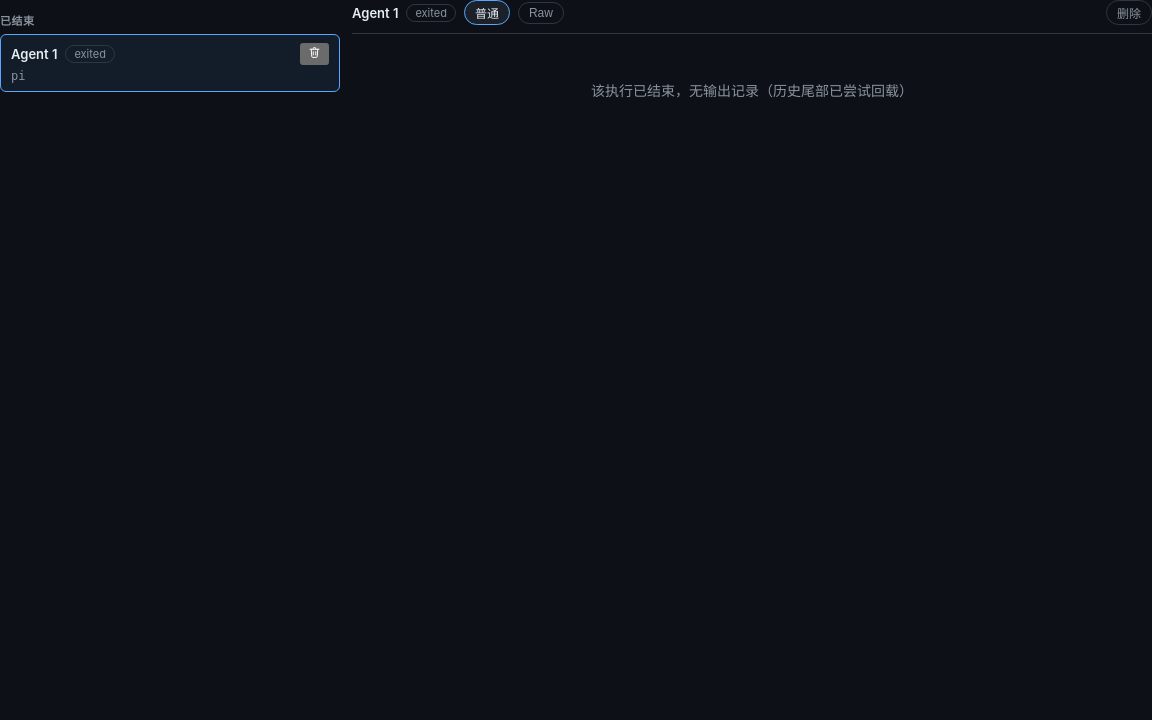
Test case: exec plane delete lease guard (F-EXEC-14(4)) › 非租约拒绝 → 原错误就地呈现，无放弃租约入口
Step 1. Click the button named "删除 Agent 1" → (314, 54), box x1=300 y1=43 x2=329 y2=65
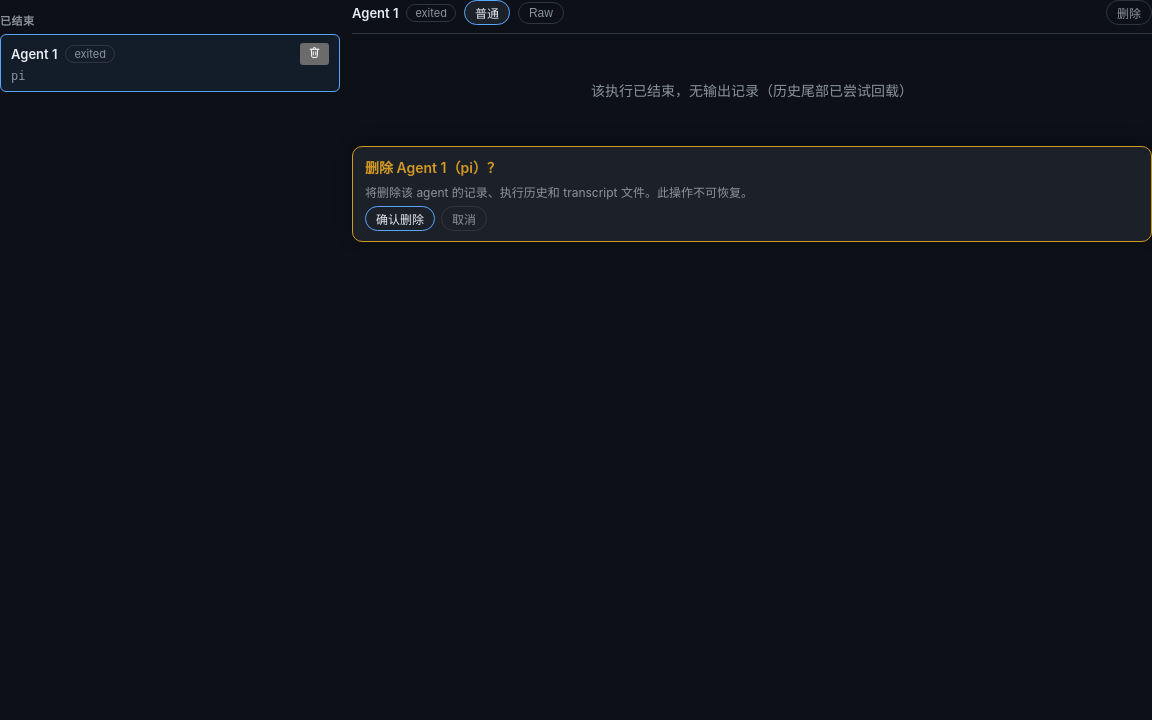
Step 2. Click the button "确认删除" → (400, 218), box x1=365 y1=206 x2=435 y2=231
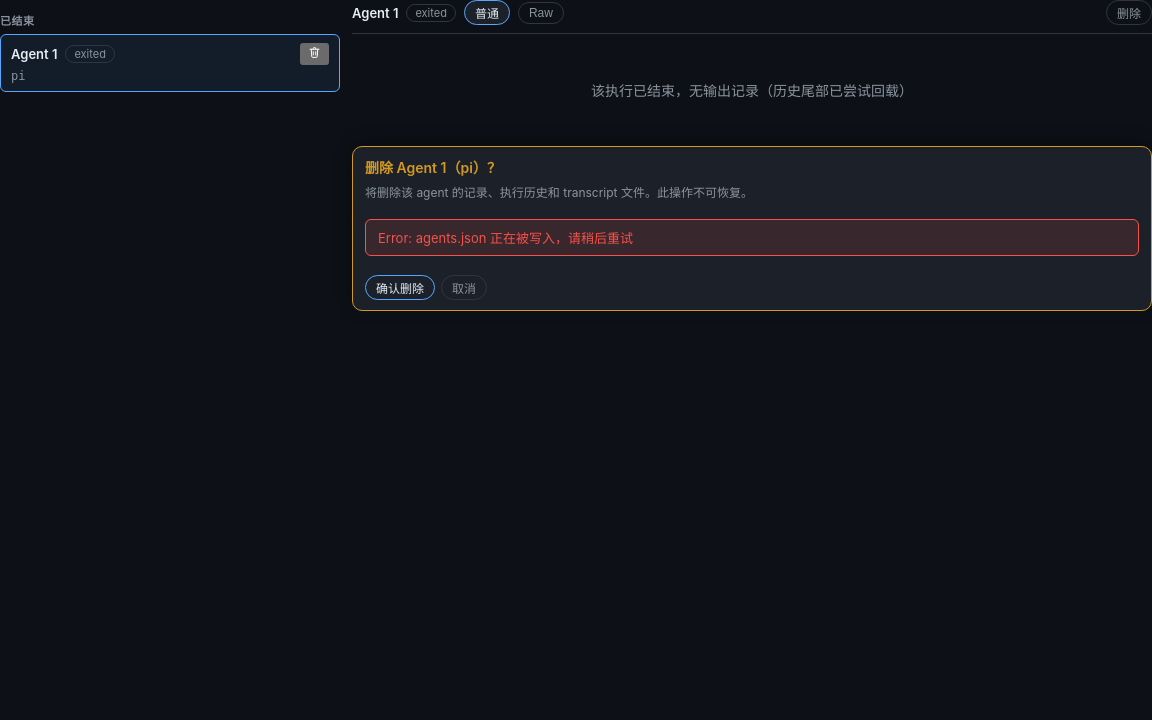
expect the dialog named "确认删除 agent" is shown: met, box x1=352 y1=146 x2=1151 y2=311
expect the text "Error: agents.json 正在被写入，请稍后重试" is shown: met, box x1=365 y1=219 x2=1139 y2=256
